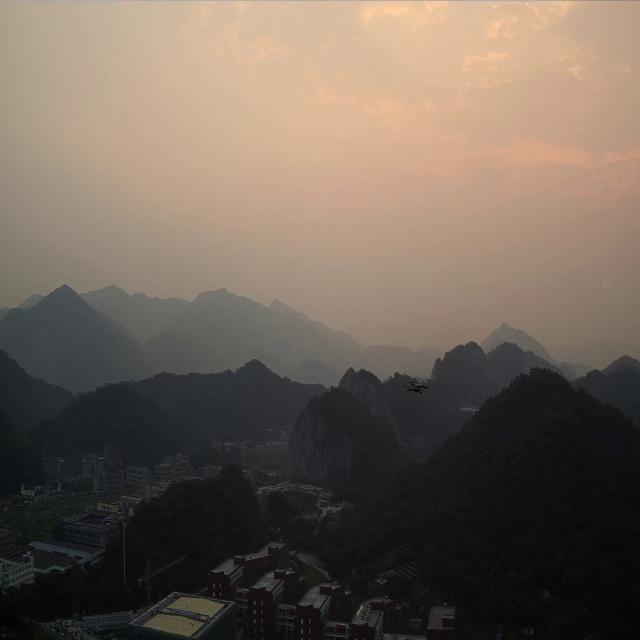drone: (401, 381, 431, 394)
